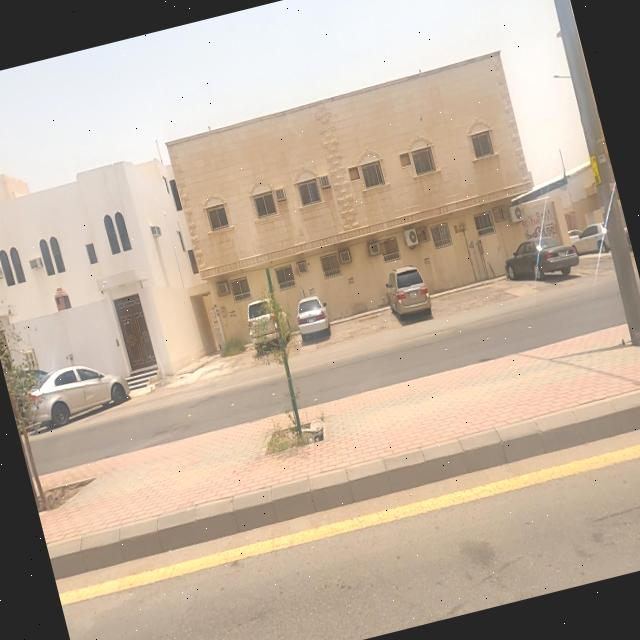Graffiti: (520, 206, 561, 246)
